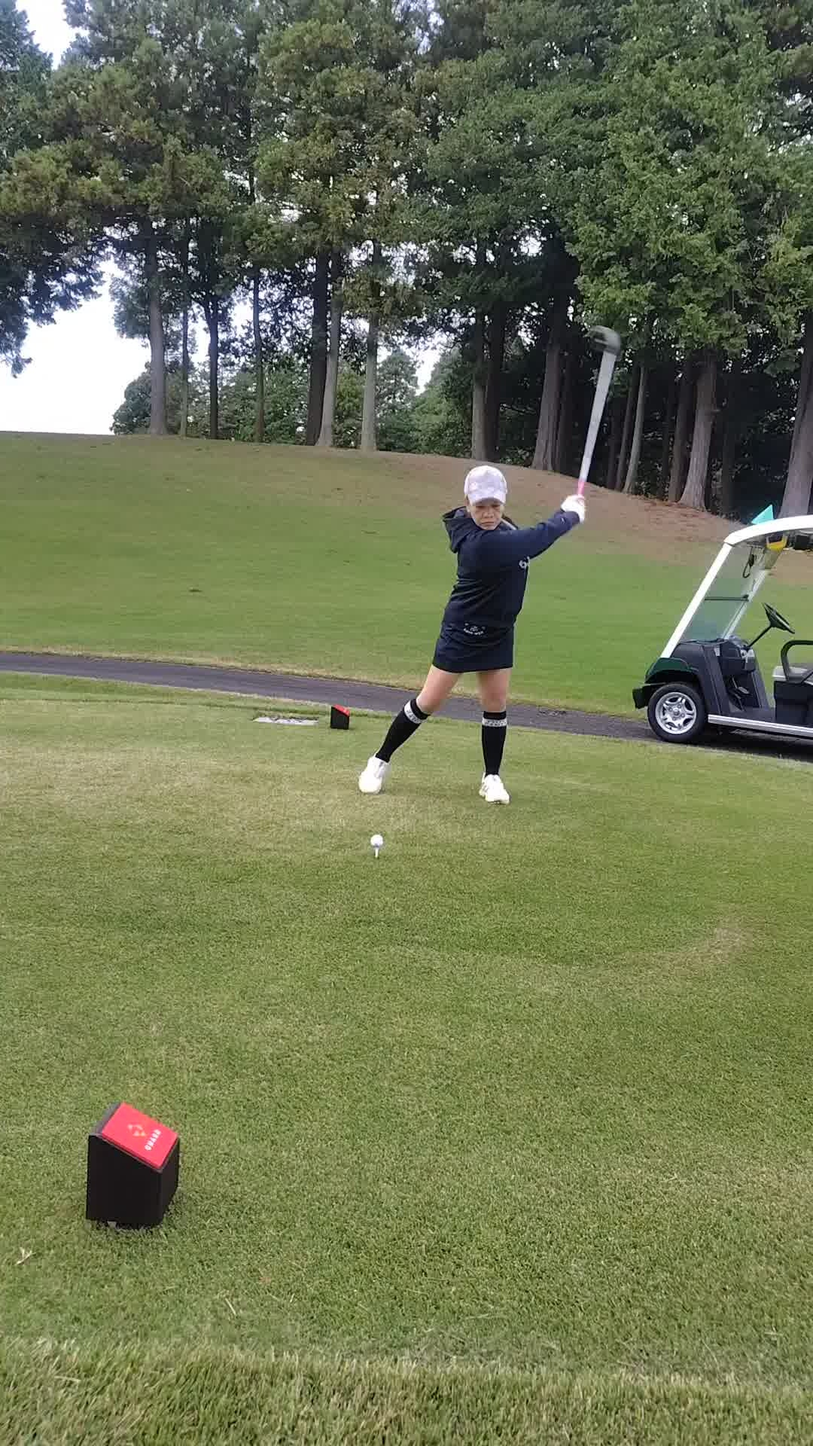clubhead: (537, 289, 665, 417)
